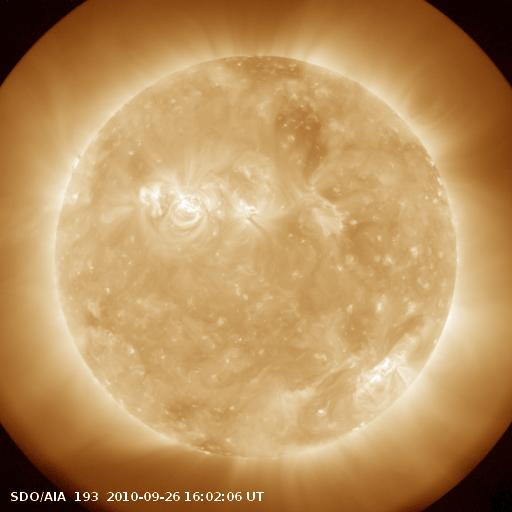coronal_hole: (218, 52, 331, 182)
